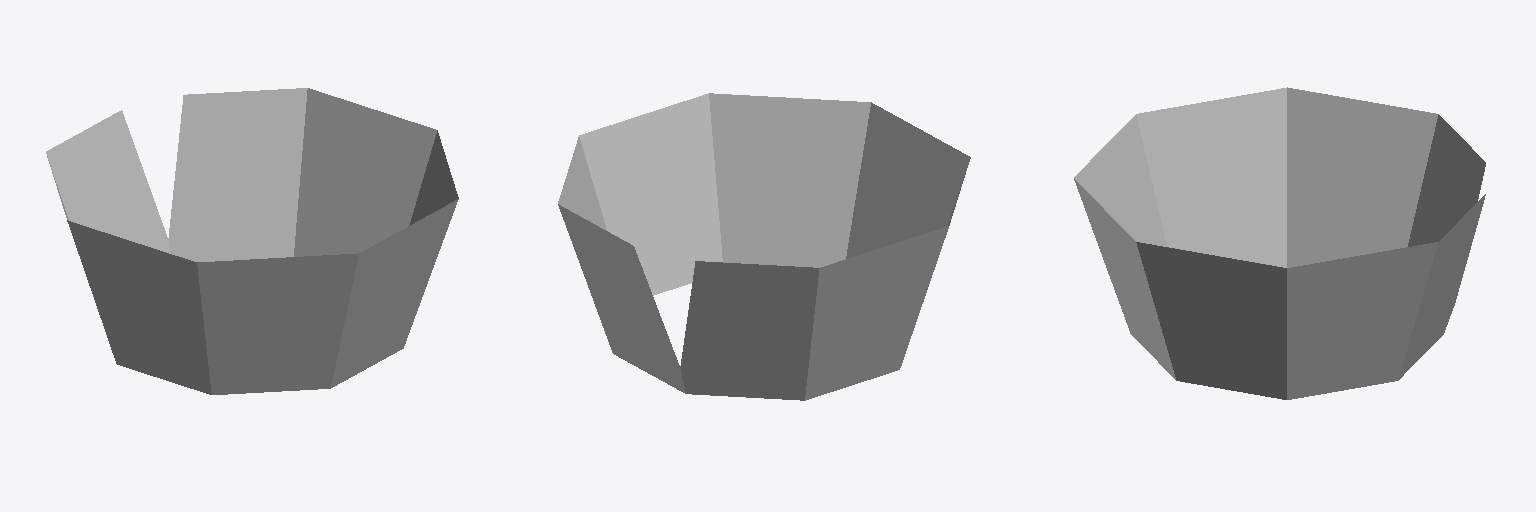
Rendered from enm_pawn_shp_ForeArm_L.obj.
The picture shows the model from 3 angles: view 1: azimuth 30°, elevation 25°; view 2: azimuth 150°, elevation 25°; view 3: azimuth 270°, elevation 25°; orthographic projection.
Visible parts, largest first — view 1: polygon0; view 2: polygon0; view 3: polygon0.
Part boxes in pixels (x1,y1,x2,y2): polygon0: (46, 88, 458, 394); polygon0: (558, 93, 970, 400); polygon0: (1074, 87, 1485, 399).
Size of the model in its own units: 6.44 by 2.59 by 6.21.